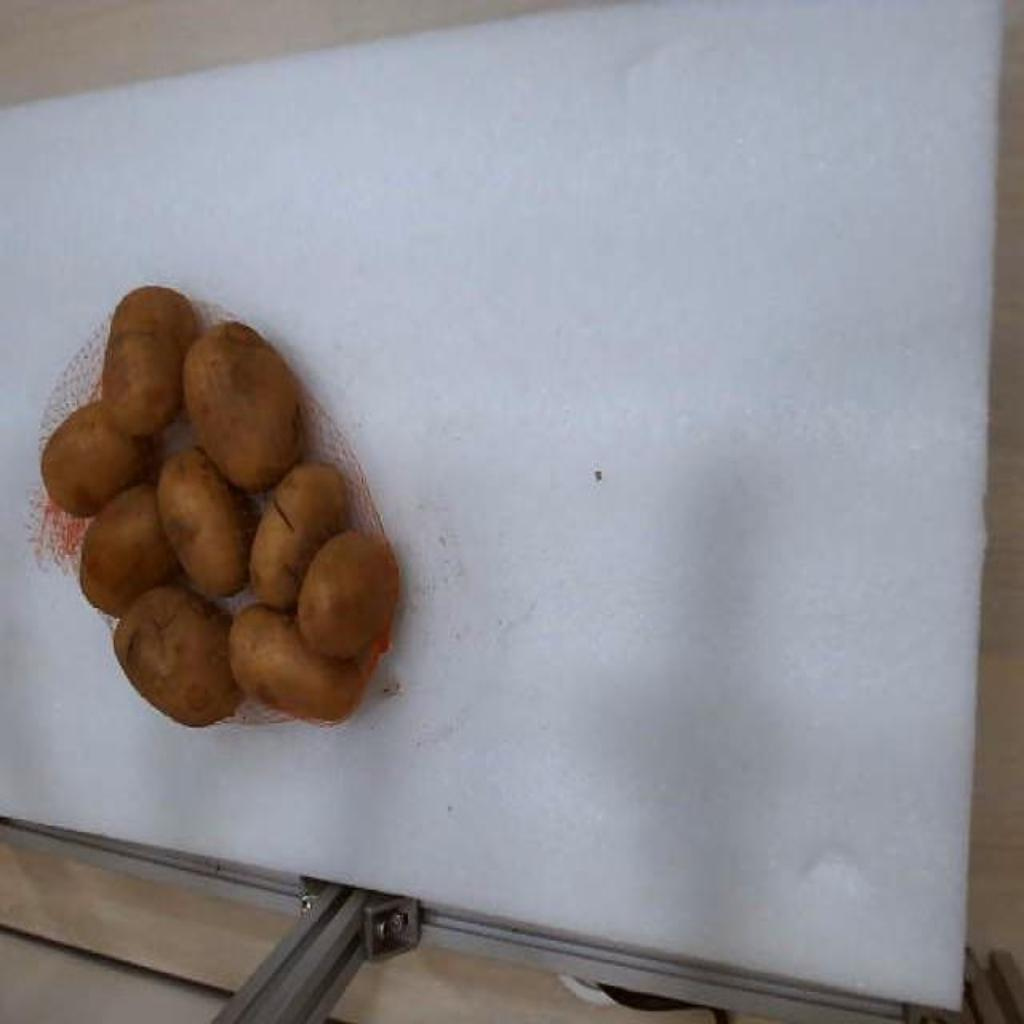potato: (184, 323, 302, 492), (114, 584, 242, 725), (230, 605, 368, 719), (158, 448, 256, 597), (252, 464, 348, 609), (82, 483, 180, 617), (298, 531, 398, 657), (42, 403, 148, 516), (102, 331, 184, 436), (110, 288, 200, 351)
